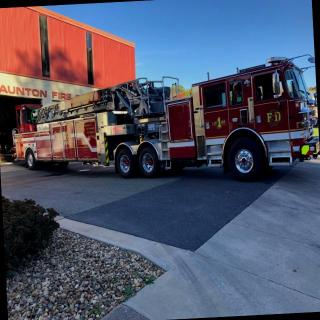Fire_truck: (7, 53, 320, 193)
